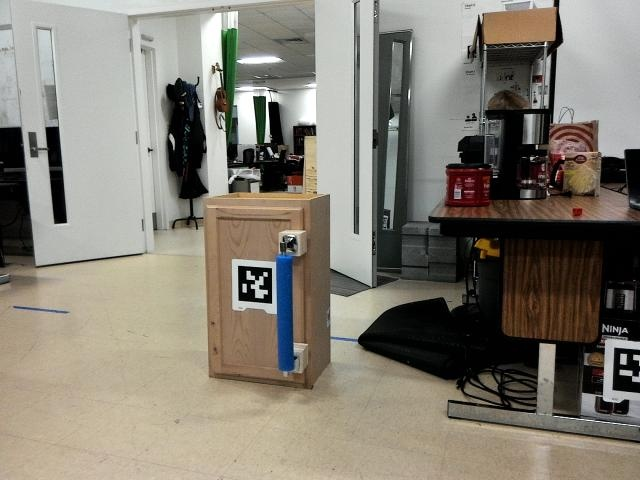noodle_handle: (270, 248, 297, 375)
